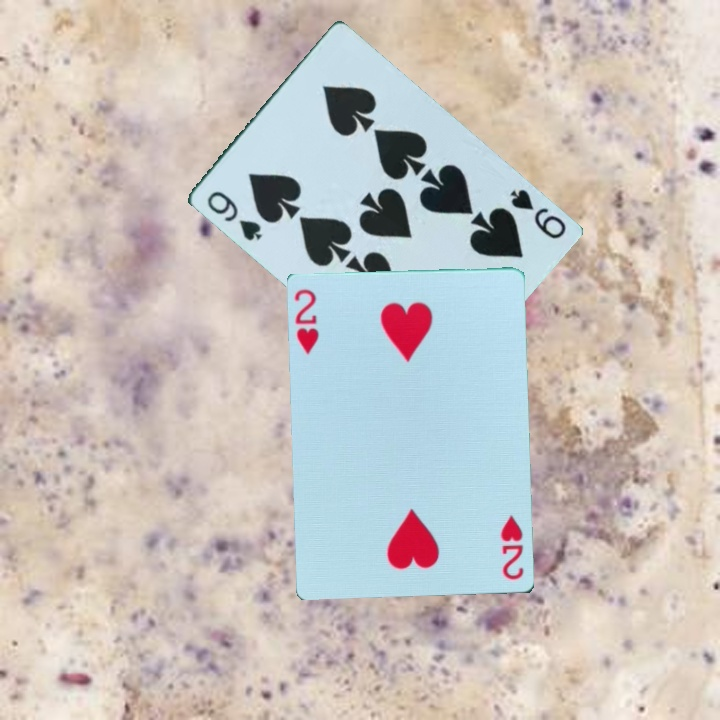2h: (291, 286, 323, 358), (498, 512, 527, 583)
9s: (505, 185, 569, 242), (202, 187, 265, 244)
